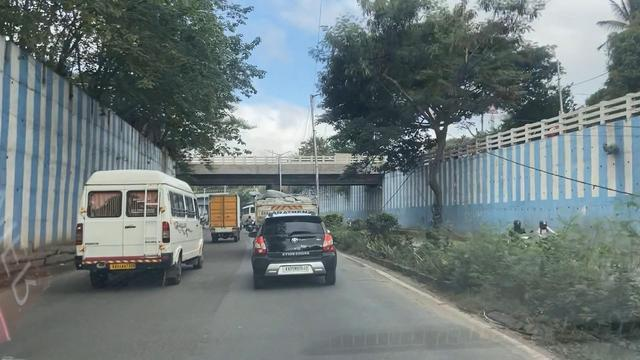HMV: (77, 170, 199, 285), (210, 195, 240, 241)
LMV: (252, 212, 336, 286)
